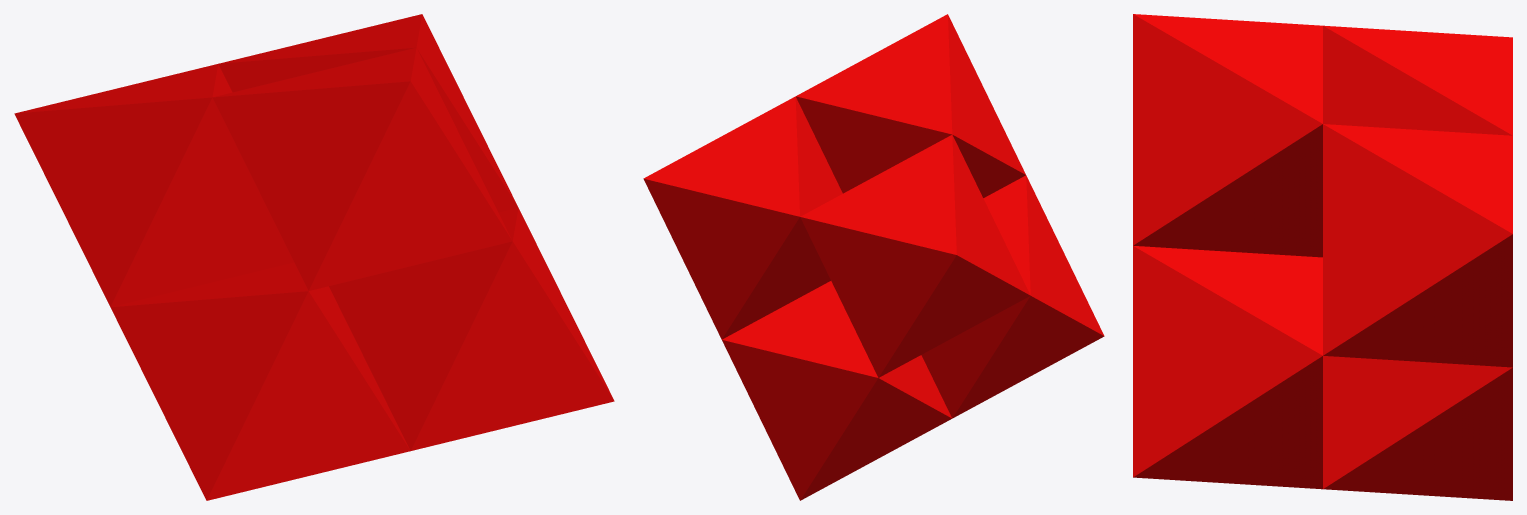
Rendered from tet1.glb.
3 renders of one model, left to right at view 1: azimuth 30°, elevation 25°; view 2: azimuth 150°, elevation 25°; view 3: azimuth 270°, elevation 25°, orthographic. The views are drawn at different scales.
Size of the model in its own units: 1 by 1.15 by 0.8165.
